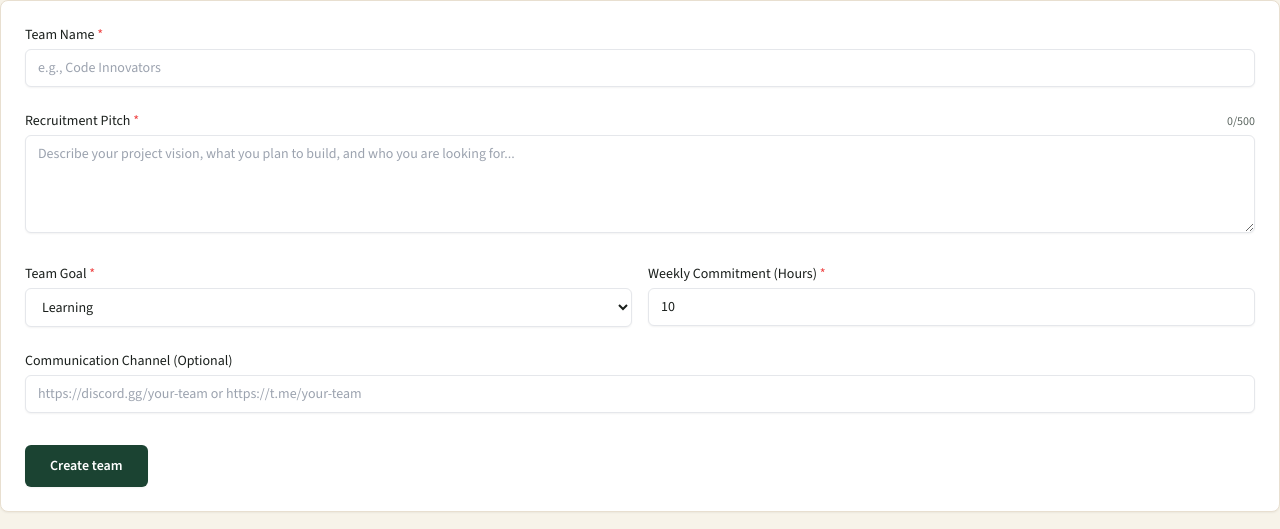
Scenario: TeamListingForm component tests (US-012 / Task 8 / #125) › updates live pitch character counter when typing into textarea
The image size is (1280, 529).
Replace the text in the text box labelled "Recruitment Pitch *" with "Hello 🚀" at x=640, y=184, box left=25, top=135, right=1255, bottom=233
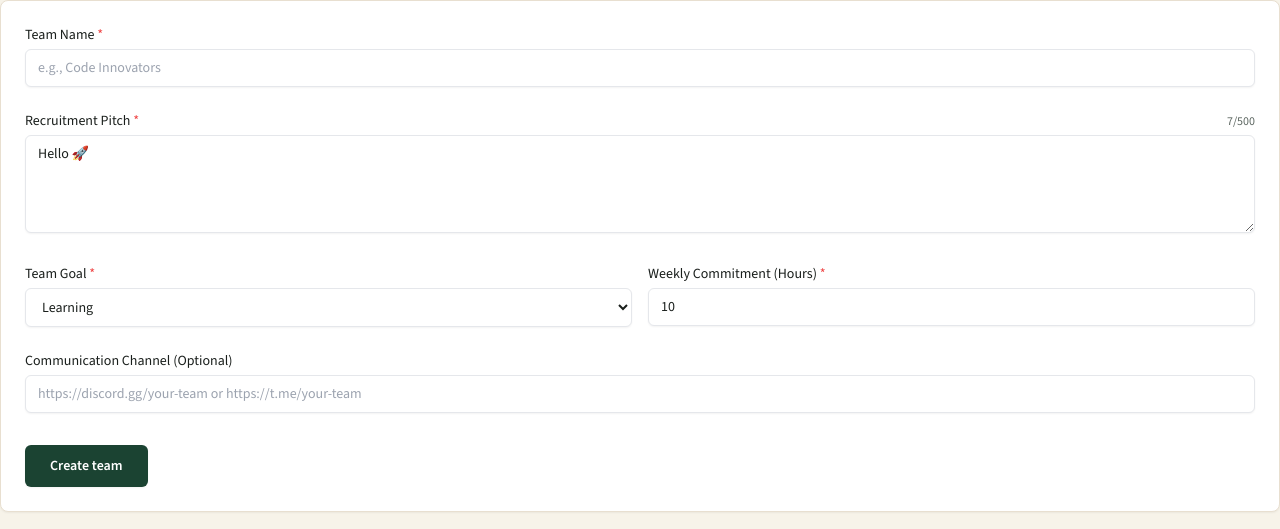
Expected: the text "7/500" is shown, left=1227, top=113, right=1255, bottom=129
